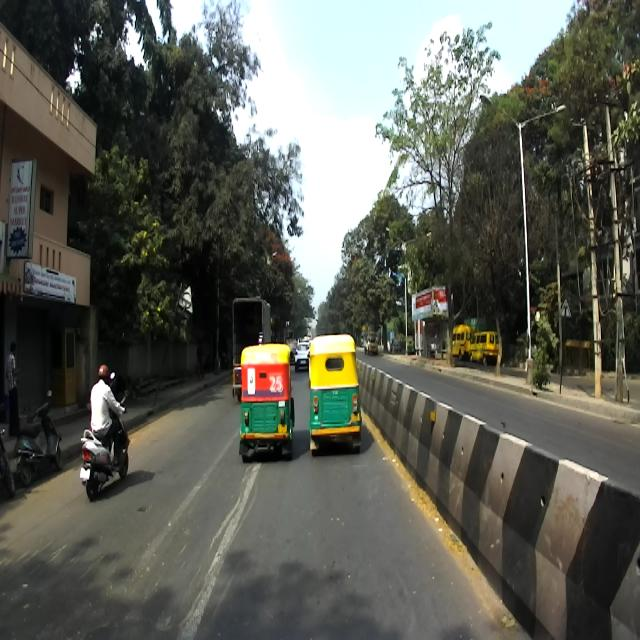auto ahead at: (302, 345, 372, 452), (236, 346, 296, 462)
motorcycle ahead at: (4, 392, 70, 496), (74, 429, 135, 499)
